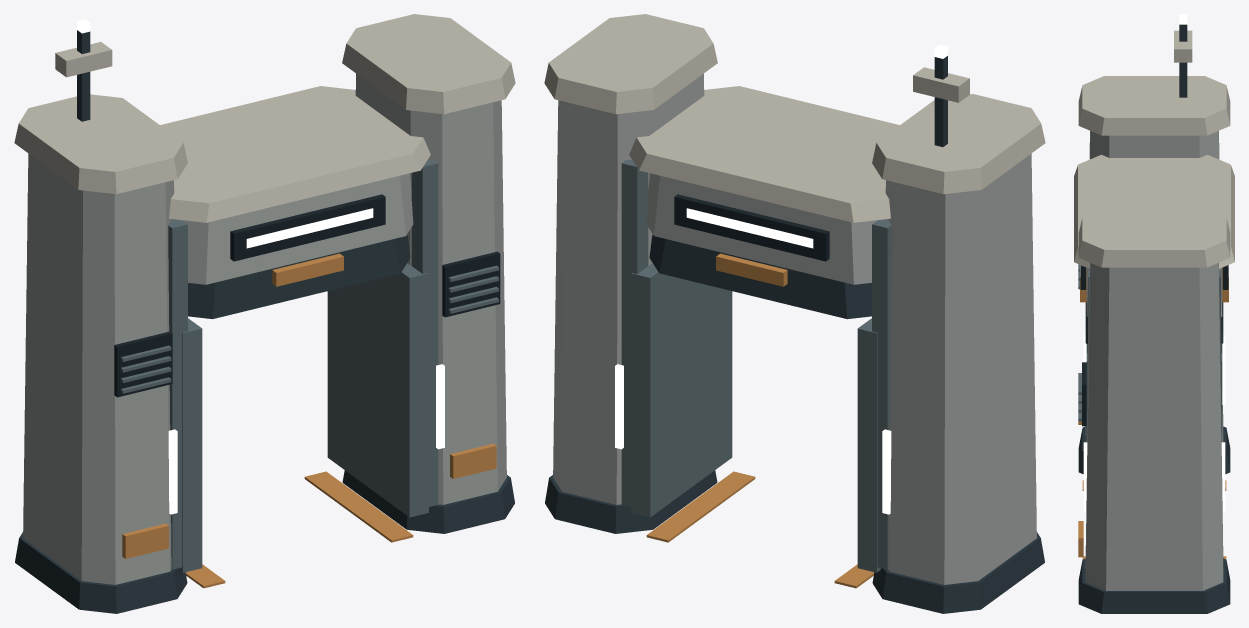
File: gate_t2.glb
3 renders of one model, left to right at view 1: azimuth 30°, elevation 25°; view 2: azimuth 150°, elevation 25°; view 3: azimuth 270°, elevation 25°, orthographic. The views are drawn at different scales.
Parts seen in each view (by area): view 1: body, glow; view 2: body, glow; view 3: body, glow.
Boxes of the visible parts, bbox=[...] form: body: bbox=[14, 14, 515, 613]; glow: bbox=[77, 19, 444, 514]; body: bbox=[544, 14, 1045, 613]; glow: bbox=[615, 44, 947, 514]; body: bbox=[1074, 24, 1234, 613]; glow: bbox=[1080, 14, 1228, 512].
Size of the model in its own units: 3.63 by 4.27 by 1.4.
